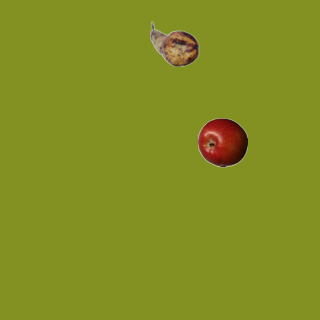Apple Braeburn: (197, 117, 247, 167)
Pear Abate: (149, 19, 199, 69)
